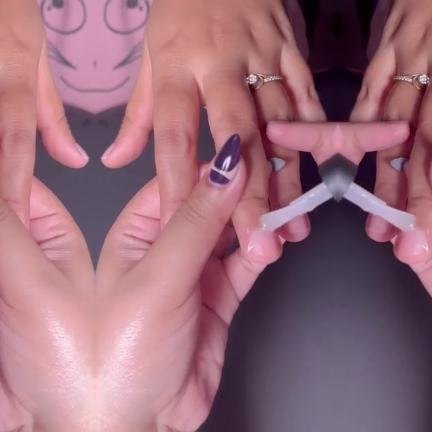Nail: (208, 134, 240, 185), (251, 229, 280, 256), (394, 229, 423, 256), (286, 215, 307, 233), (367, 215, 388, 233), (99, 143, 114, 159), (74, 143, 89, 159)
